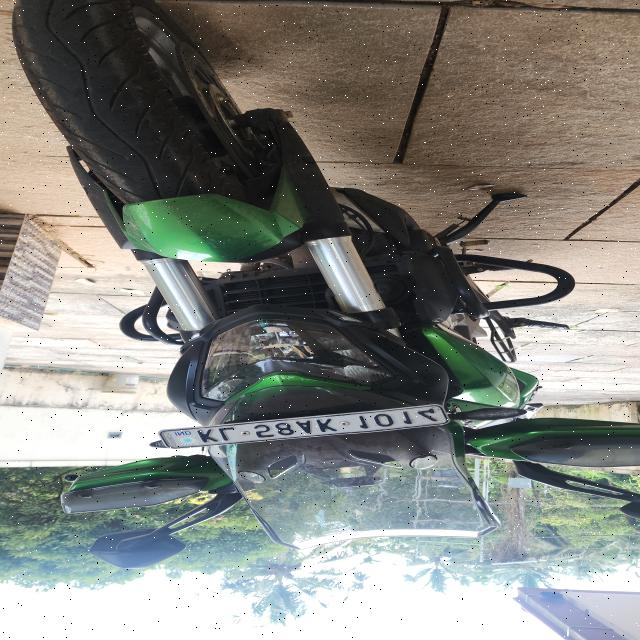headlight: (198, 318, 394, 402)
